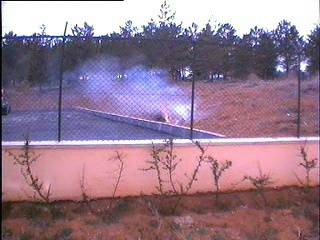smoke: (80, 53, 195, 125)
